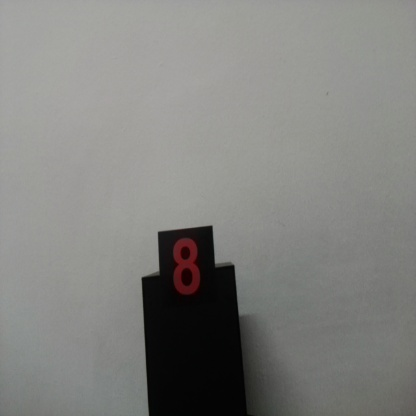id_8: (158, 231, 216, 309)
